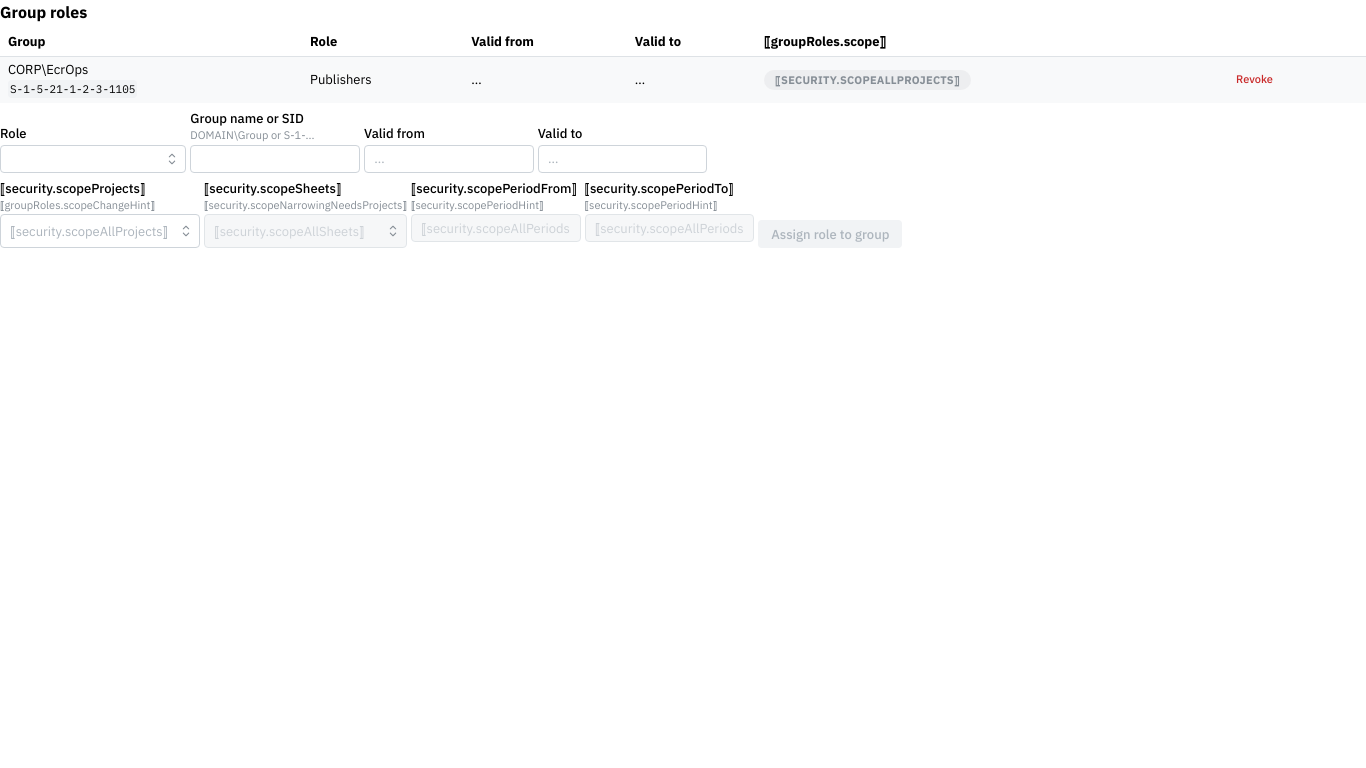
Scenario: GroupAssignmentsPanel › скасування підтвердження не відкликає нічого (R-06)
Expected: the text "CORP\\EcrOps" is shown, [8,60,88,78]
Click the button "Revoke" at (1254, 80), box [1227,68,1282,92]
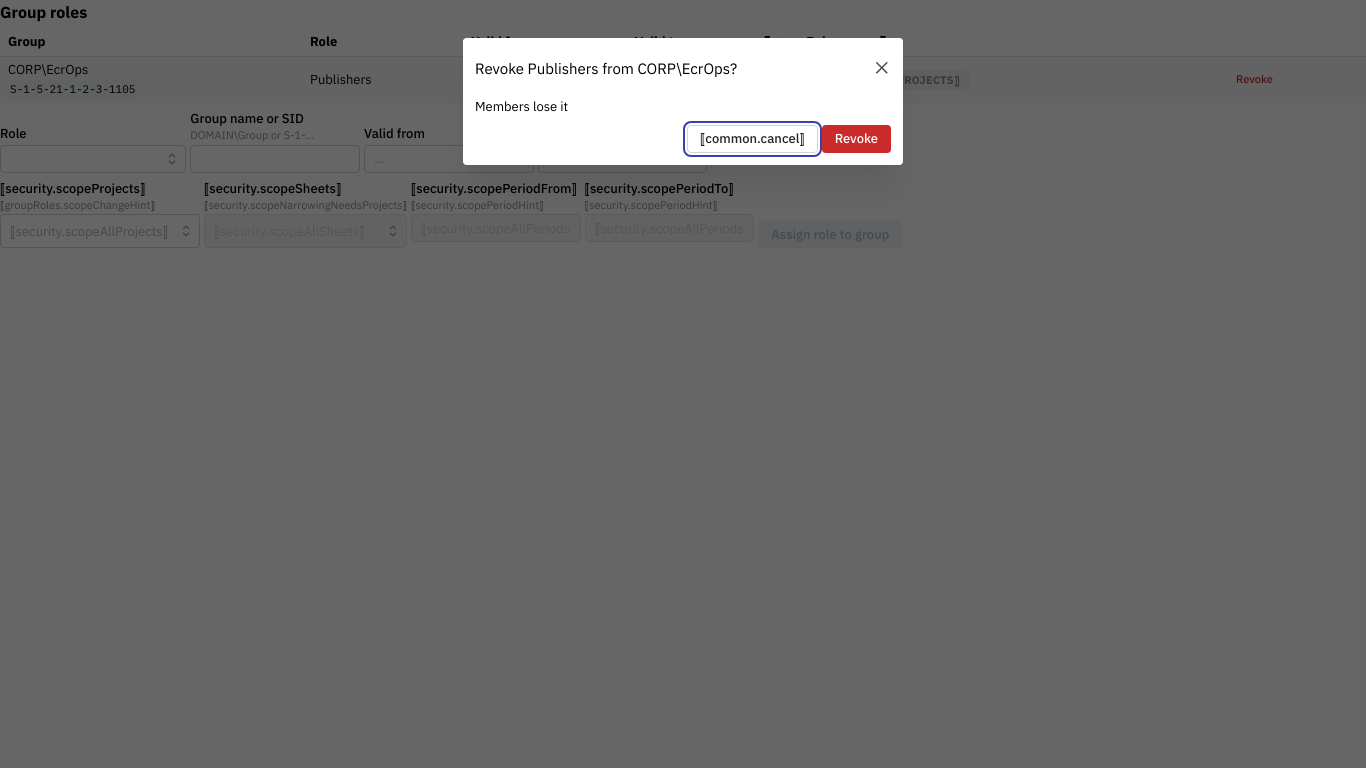
Click the button with test id "confirm-cancel" at (752, 139), box [687,125,818,153]
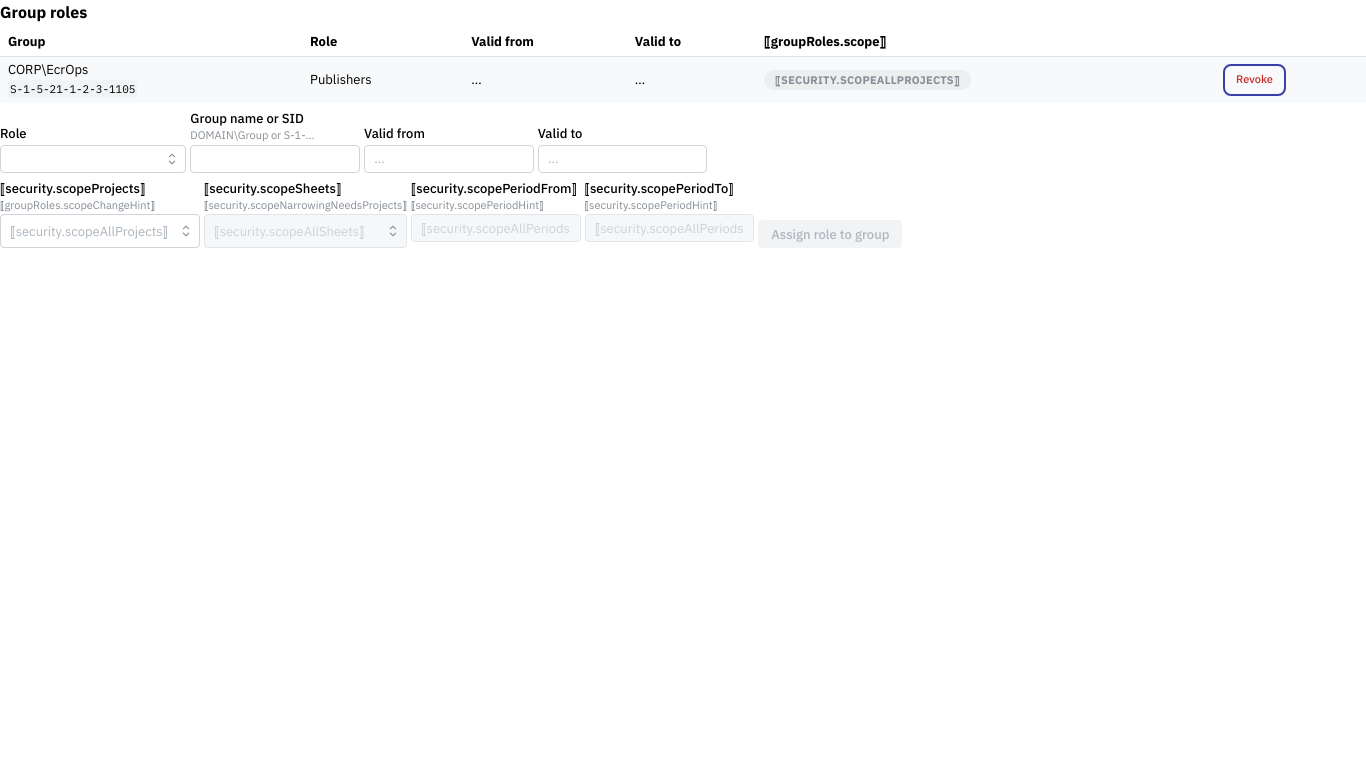
Expected: the button with test id "confirm-verb" is gone
